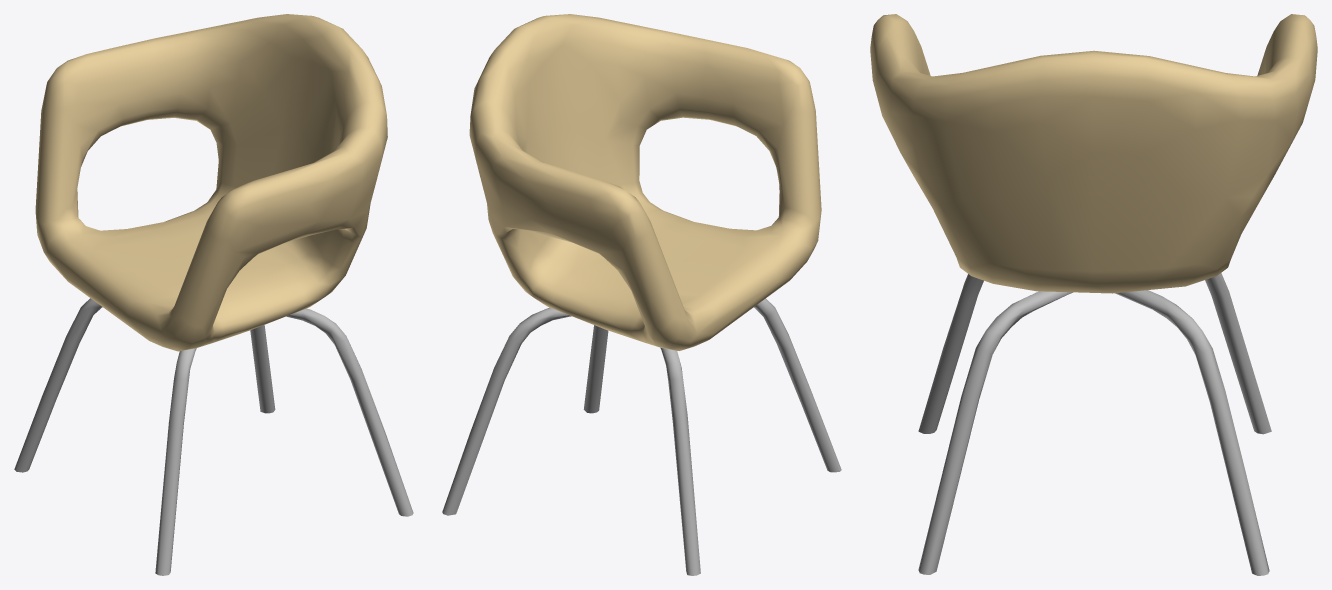
Rendered from chair_07_white.fbx.
3 views of the same model, side by side, from view 1: azimuth 30°, elevation 25°; view 2: azimuth 150°, elevation 25°; view 3: azimuth 270°, elevation 25° (orthographic). The views are drawn at different scales.
Visible parts, largest first — view 1: chair_07_white; view 2: chair_07_white; view 3: chair_07_white.
Part boxes in pixels (x1,y1,x2,y2): chair_07_white: (14,14,413,575); chair_07_white: (442,14,841,575); chair_07_white: (870,14,1317,575).
Bounding box in the file's own units: 51.53 × 81.16 × 63.67.
Materials: 2 (2 with a texture image).
